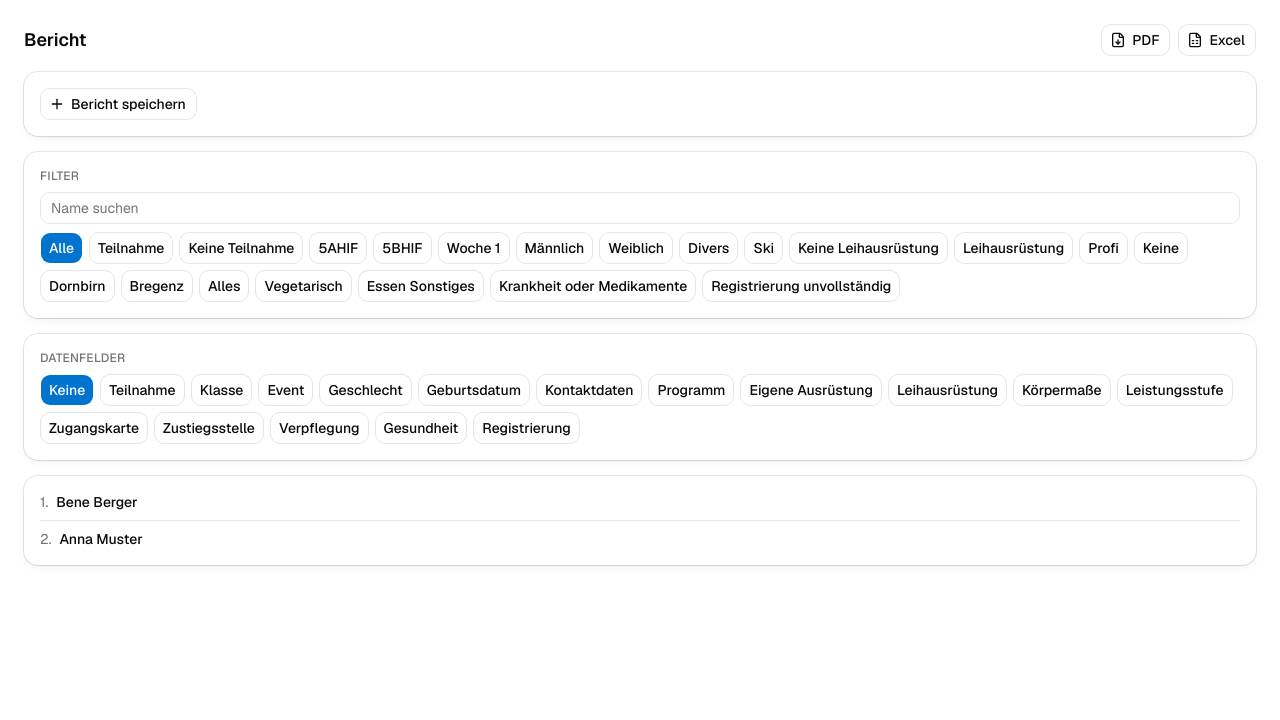
Test case: ReportView › offers the attendance category the assignment dialog has no use for (US-13)
This screenshot has width=1280, height=720.
Click the button "Teilnahme" below "Filter" at coordinates (131, 248), box 96,238 -> 166,258
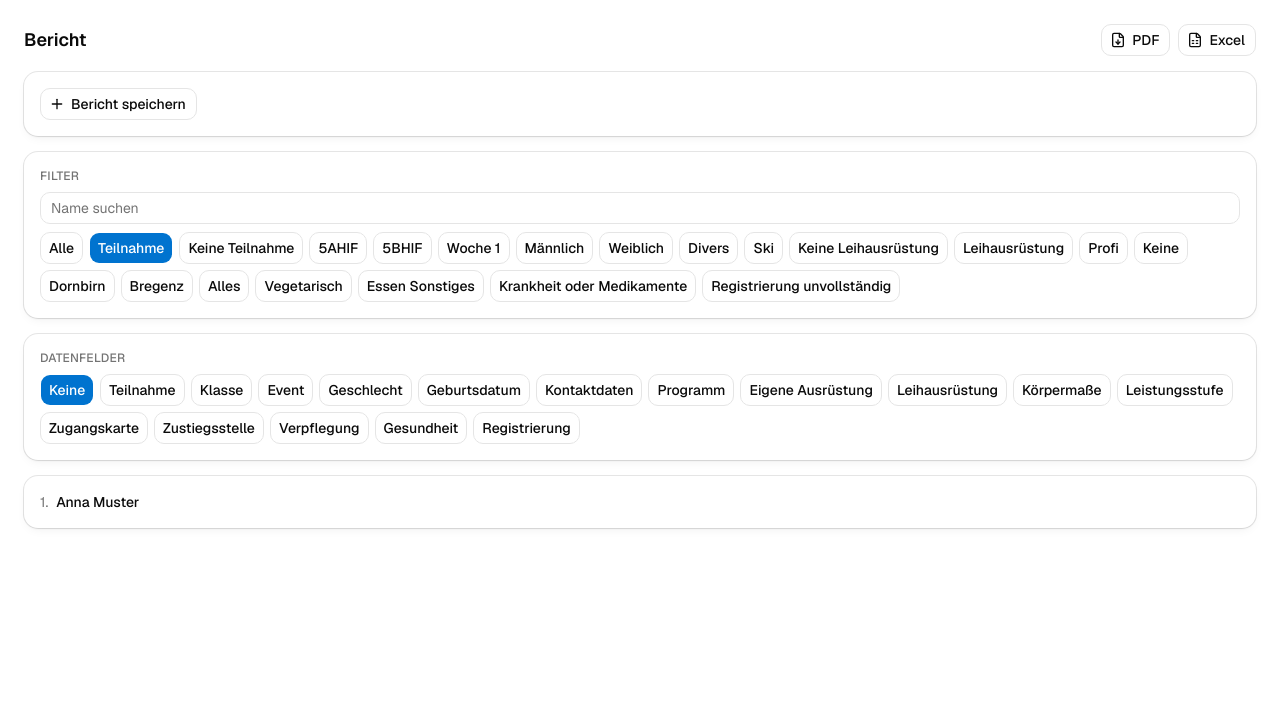
Expected: the number of list items is 1, 40,493 -> 139,511
